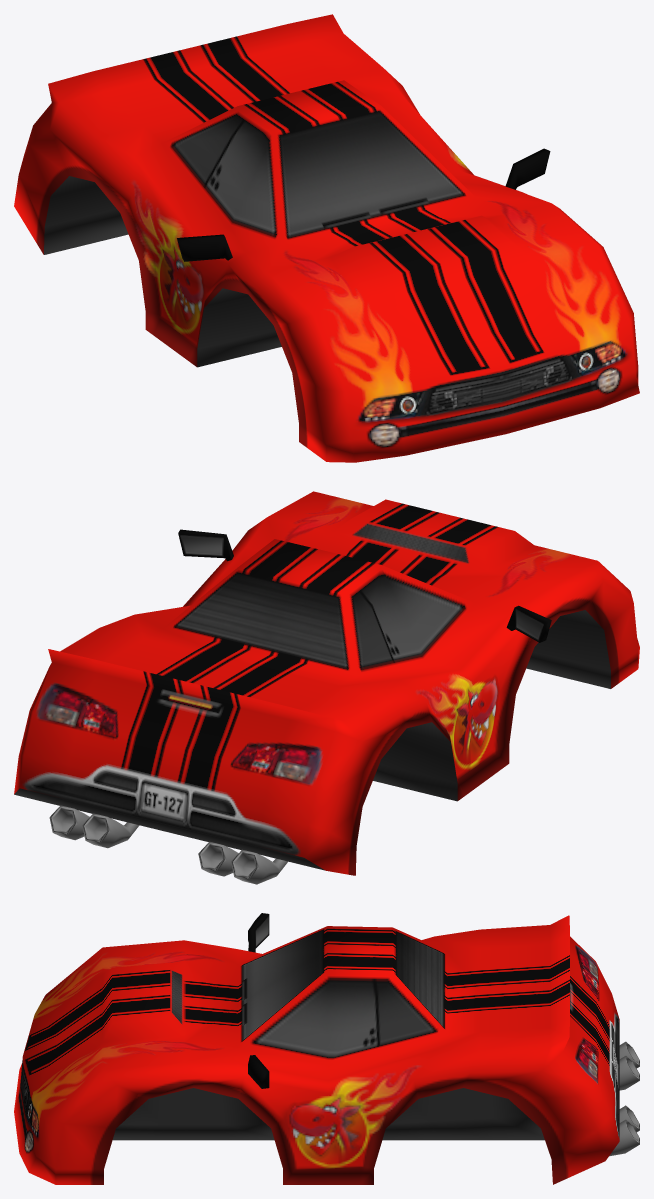
Rendered from dragon_GT.FBX.
3 renders of one model, top to bottom at view 1: azimuth 30°, elevation 25°; view 2: azimuth 150°, elevation 25°; view 3: azimuth 270°, elevation 25°, orthographic. The views are drawn at different scales.
Parts seen in each view (by area): view 1: dragon_GT_Body; view 2: dragon_GT_Body; view 3: dragon_GT_Body.
Boxes of the visible parts, <box> form: dragon_GT_Body: <box>14,14,639,462</box>; dragon_GT_Body: <box>14,491,639,884</box>; dragon_GT_Body: <box>14,913,639,1184</box>.
Size of the model in its own units: 0.3215 by 0.1617 by 0.5332.
